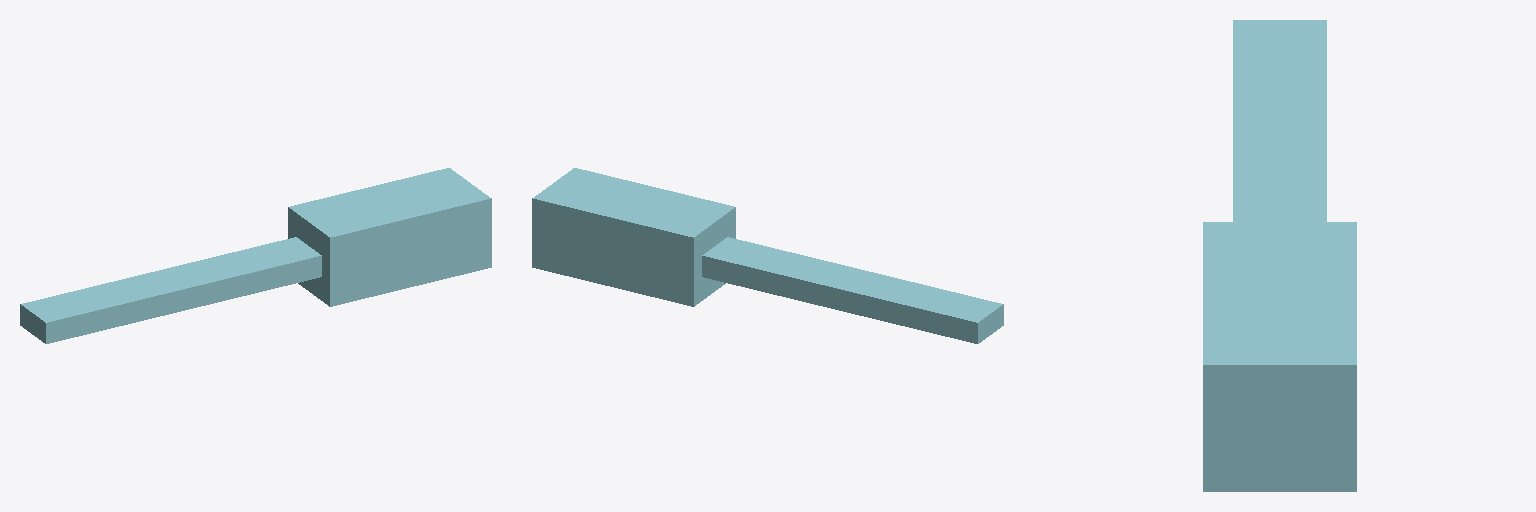
URDF robot description (cuboid_brush_v8013):
<?xml version="1.0"?>
<robot name="cuboid_brush_v8013">

  <link name="cuboid_brush_v8013">
    <!-- Handle -->
    <visual>
      <origin xyz="0 0 0" rpy="0 0 0"/>
      <geometry>
        <box size="0.17800541890135502 0.028573572592809217 0.013254869722099152"/>
      </geometry>
      <material name="material">
        <color rgba="0.639 0.847 0.882 1.0"/>
      </material>
    </visual>
    <collision>
      <origin xyz="0 0 0" rpy="0 0 0"/>
      <geometry>
        <box size="0.17800541890135502 0.028573572592809217 0.013254869722099152"/>
      </geometry>
    </collision>

    <!-- Head -->
    <visual>
      <origin xyz="0.14105551803541244 0 0" rpy="0 0 0"/>
      <geometry>
        <box size="0.10410561716946988 0.04710983083581172 0.04271317418770786"/>
      </geometry>
      <material name="material">
        <color rgba="0.639 0.847 0.882 1.0"/>
      </material>
    </visual>
    <collision>
      <origin xyz="0.14105551803541244 0 0" rpy="0 0 0"/>
      <geometry>
        <box size="0.10410561716946988 0.04710983083581172 0.04271317418770786"/>
      </geometry>
    </collision>

    <inertial>
      <density value="400.0"/>
    </inertial>
  </link>

</robot>

--- Render facts (derived) ---
The picture shows the robot from 3 angles, left to right: view 1: azimuth 30°, elevation 25°; view 2: azimuth 150°, elevation 25°; view 3: azimuth 270°, elevation 25°; orthographic projection.
Robot: cuboid_brush_v8013 — 1 links, 0 joints (none); root link cuboid_brush_v8013; default pose: all joints at 0.
Visible links, largest first — view 1: cuboid_brush_v8013; view 2: cuboid_brush_v8013; view 3: cuboid_brush_v8013.
Boxes of the visible links, x1=… form: cuboid_brush_v8013: x1=20, y1=168, x2=491, y2=343; cuboid_brush_v8013: x1=532, y1=168, x2=1003, y2=343; cuboid_brush_v8013: x1=1203, y1=20, x2=1356, y2=491.
Bounding box of the posed robot: 0.2821 × 0.0471 × 0.0427 m (x, y, z).
Geometry: primitives only (box / cylinder / sphere), no mesh files.
